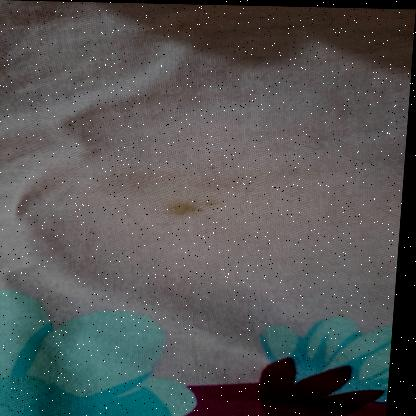spot: (169, 193, 237, 224)
